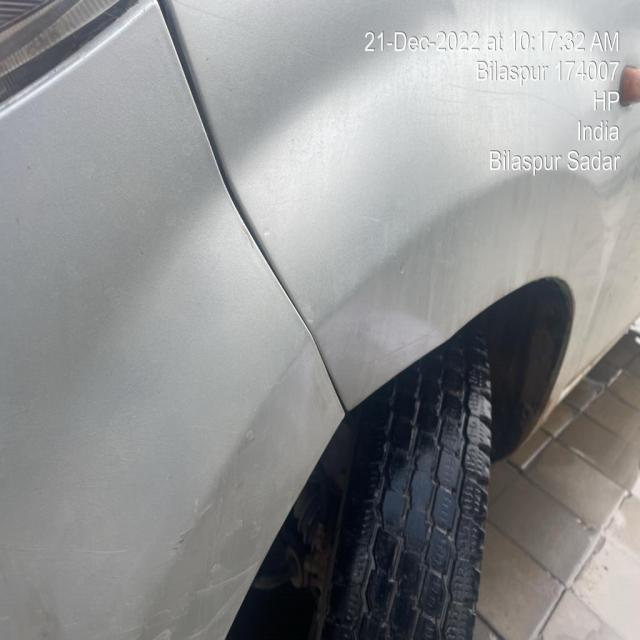damage: (149, 489, 264, 640)
